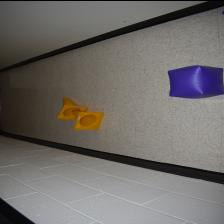cone: (56, 96, 89, 120), (70, 108, 104, 128)
cube: (167, 64, 224, 98)
